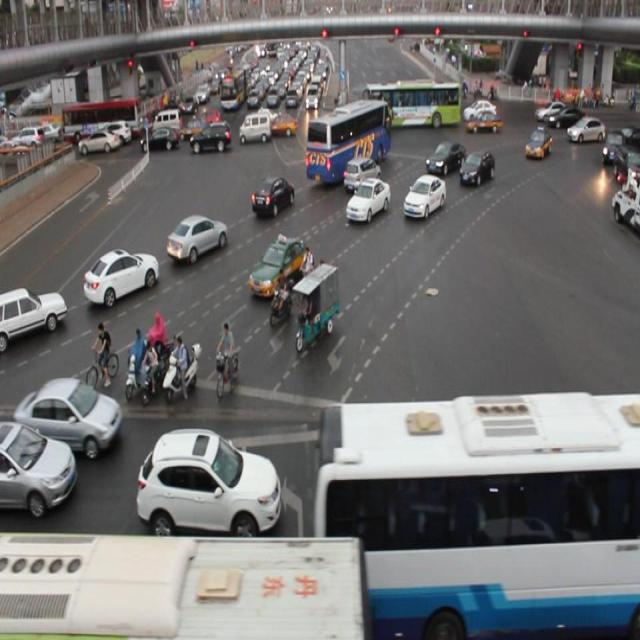car: (137, 423, 282, 535), (412, 423, 532, 538), (18, 378, 122, 462), (1, 416, 76, 517), (85, 244, 161, 311), (1, 283, 68, 355), (248, 235, 309, 296), (167, 211, 229, 264), (401, 171, 445, 219), (346, 178, 391, 224), (250, 174, 296, 218), (426, 140, 464, 172), (460, 150, 495, 183), (344, 157, 381, 187), (566, 113, 600, 143), (524, 126, 551, 161)
van: (316, 385, 640, 640), (1, 524, 369, 640), (308, 99, 390, 180)
